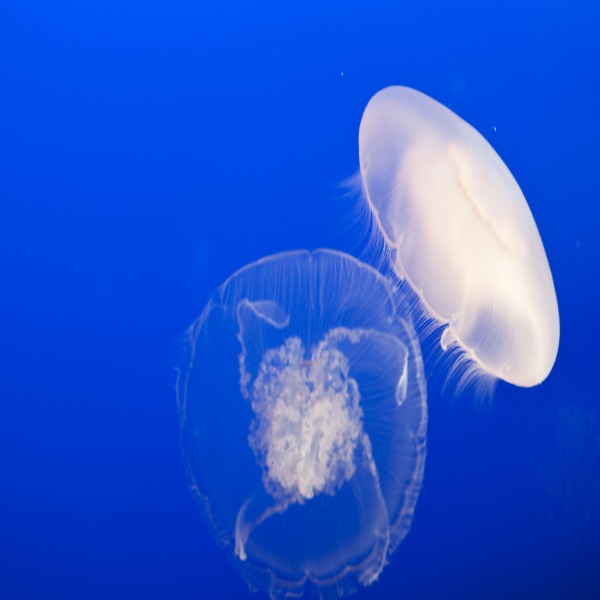Jellyfish: (173, 249, 429, 599), (315, 76, 558, 436)
